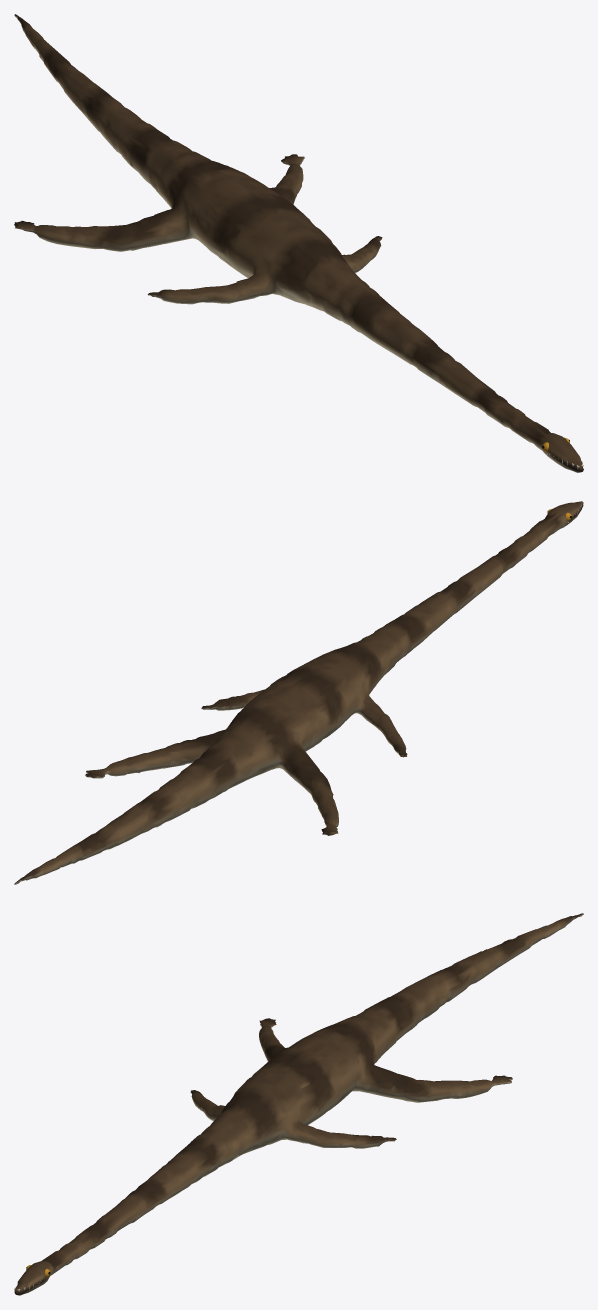
The model's file is Tanystropheus.fbx.
3 views of the same model, one above another, from view 1: azimuth 30°, elevation 25°; view 2: azimuth 150°, elevation 25°; view 3: azimuth 330°, elevation 25° (orthographic). The views are drawn at different scales.
Parts seen in each view (by area): view 1: Tanystropheus; view 2: Tanystropheus; view 3: Tanystropheus.
Boxes of the visible parts, x1,y1,x2,y2 form: Tanystropheus: [14, 14, 583, 472]; Tanystropheus: [14, 501, 583, 884]; Tanystropheus: [14, 913, 583, 1295].
Bounding box in the file's own units: 0.5449 × 0.1398 × 1.99.
